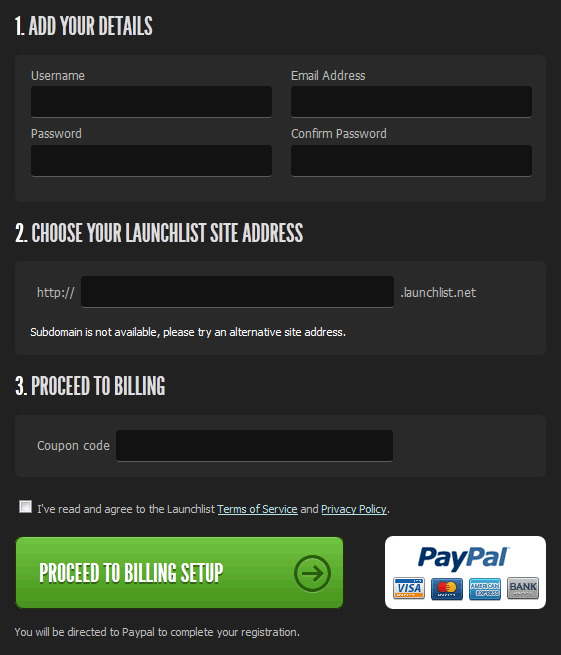_form_: (10, 69, 426, 485), (4, 384, 403, 647), (184, 53, 552, 317)
button: (16, 536, 344, 608)
checkbox: (19, 497, 37, 518)
checkbox_with_label: (15, 494, 388, 521)
field: (75, 274, 397, 309), (112, 428, 395, 462), (30, 82, 275, 118), (290, 82, 533, 118), (28, 143, 273, 178), (290, 141, 532, 176)
field_with_label: (70, 271, 475, 312), (37, 271, 400, 312), (38, 426, 398, 464), (26, 127, 275, 180), (27, 68, 277, 120), (289, 68, 535, 120), (287, 128, 534, 178)
